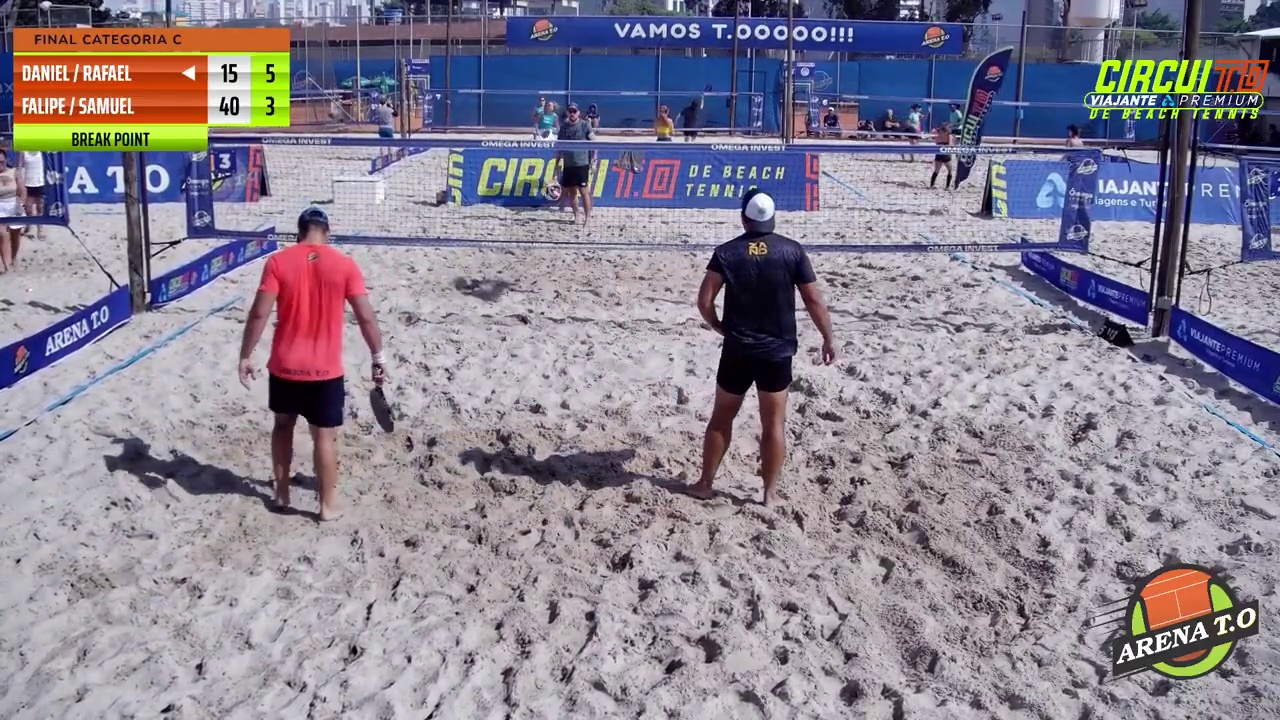ball: (0, 8, 313, 602)
court_line: (447, 0, 592, 504)
